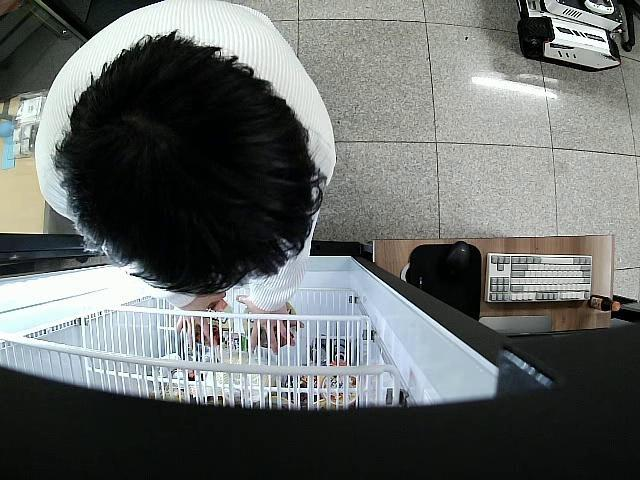03_chapagetti_L: (244, 297, 297, 350), (190, 293, 235, 344)
